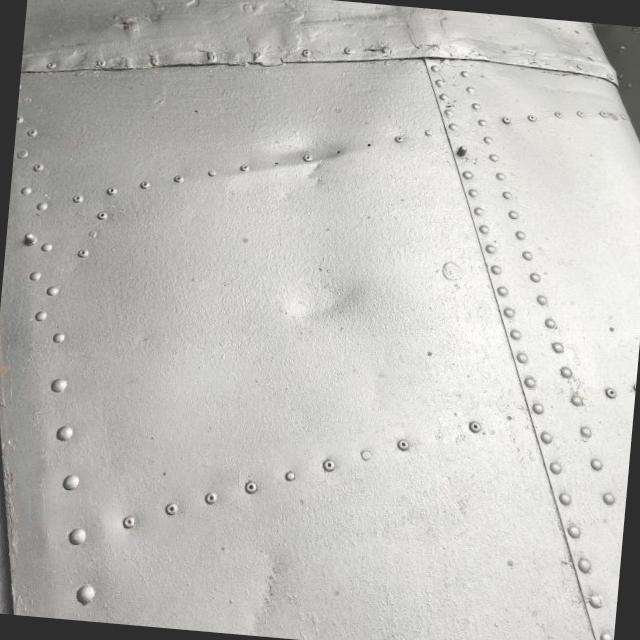dent: (258, 232, 402, 366), (228, 90, 361, 213)
